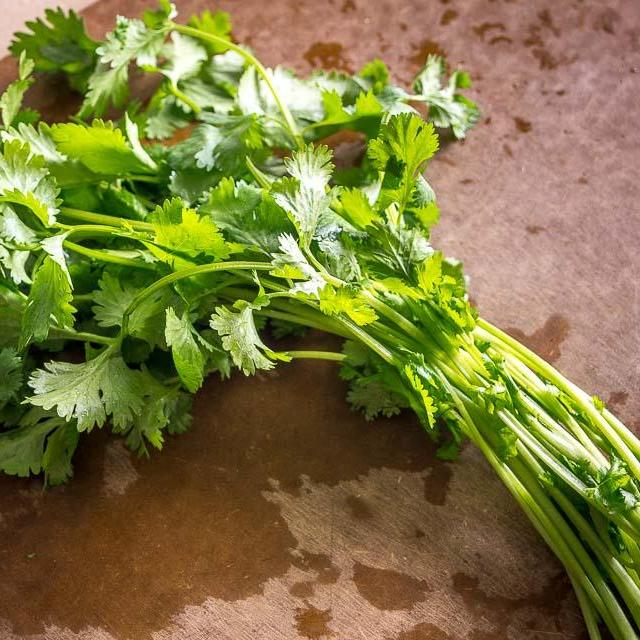cilantro: (0, 19, 475, 457)
